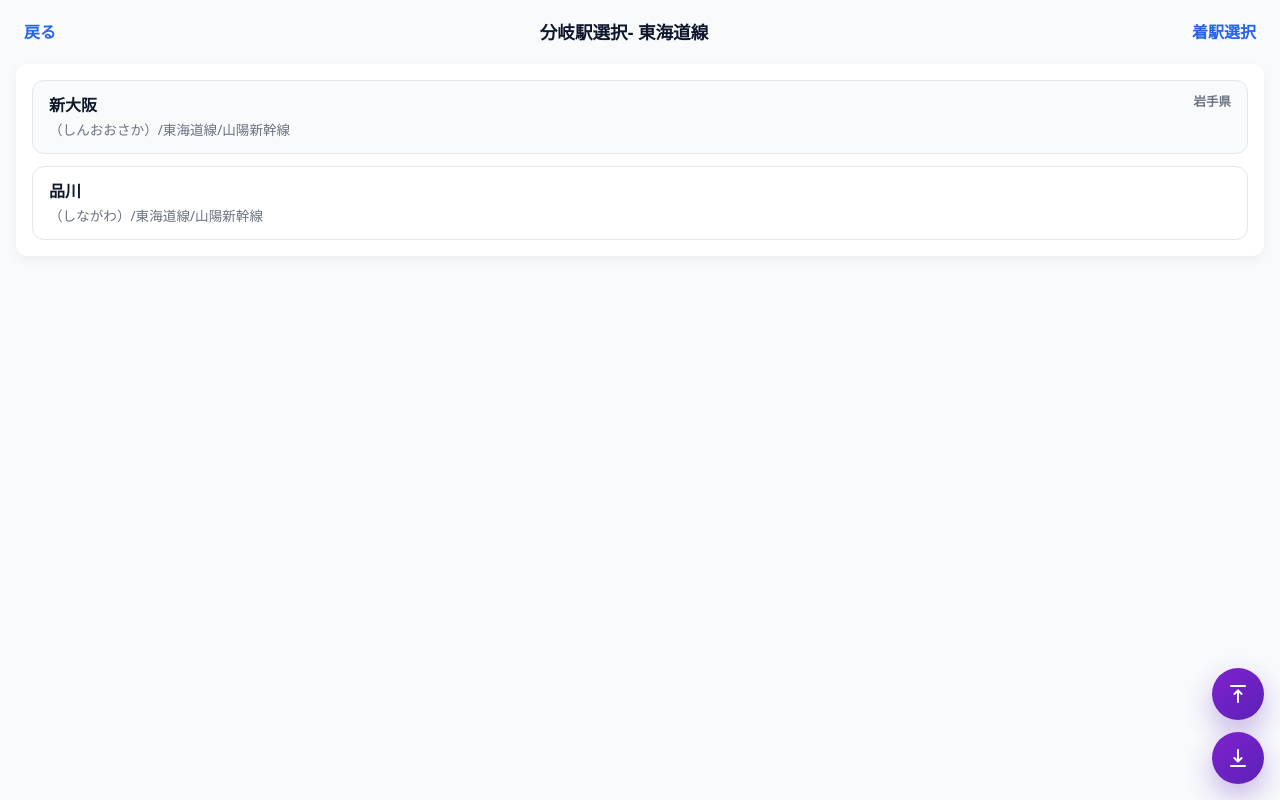
Test case: /route-station-select/+page.svelte › shows company pass error message when addRoute returns -4
Click the button with test id "station-option-品川" at (65, 191), box [32, 166, 1248, 240]
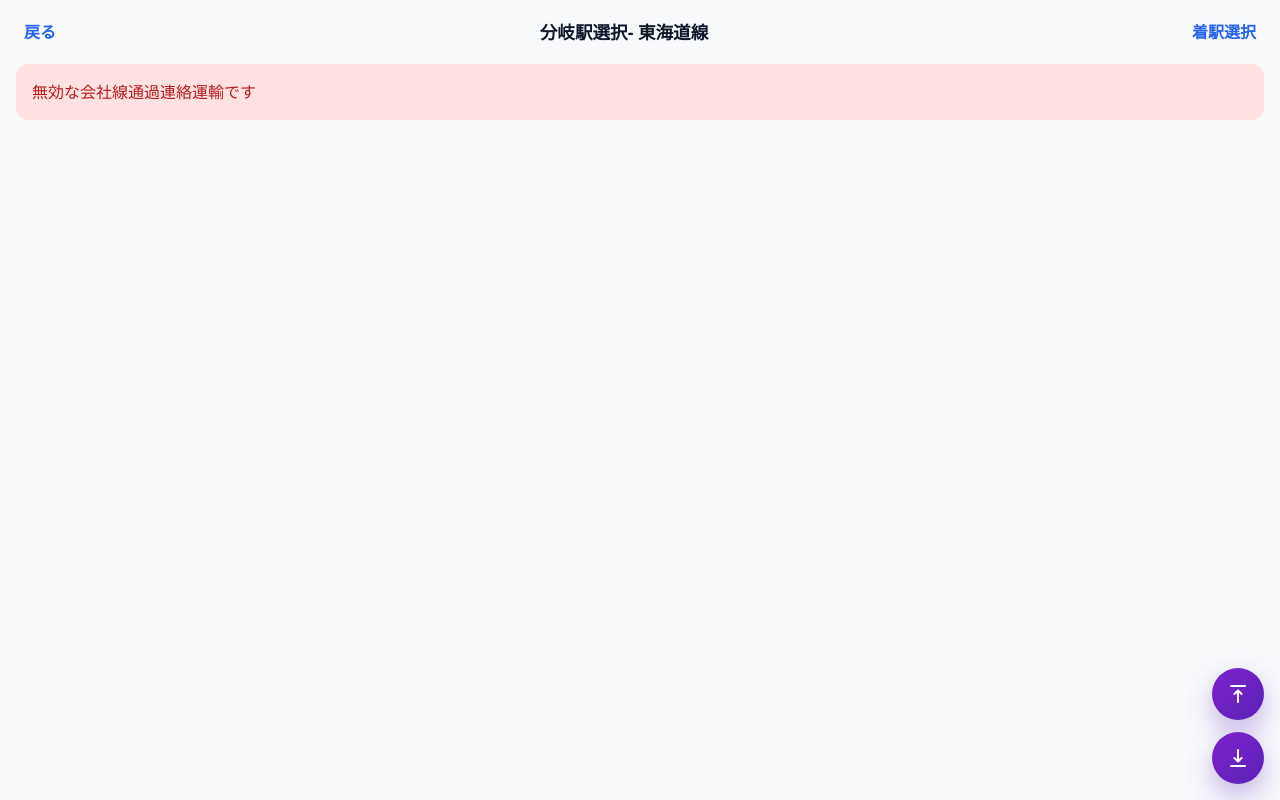
Expected: the text "無効な会社線通過連絡運輸です" is shown, [32, 81, 256, 103]
